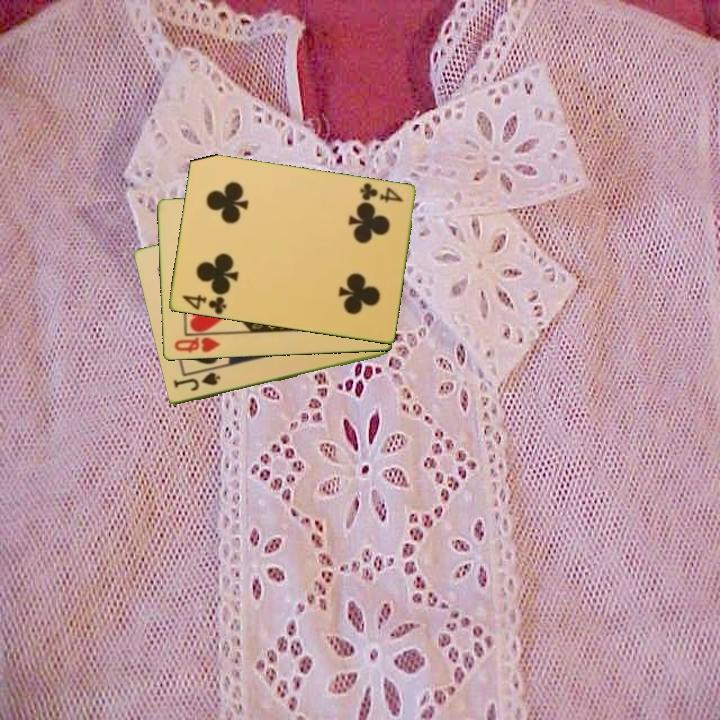4c: (178, 291, 229, 317), (356, 179, 405, 206)
Js: (170, 370, 223, 394)
Qh: (171, 334, 222, 356)
